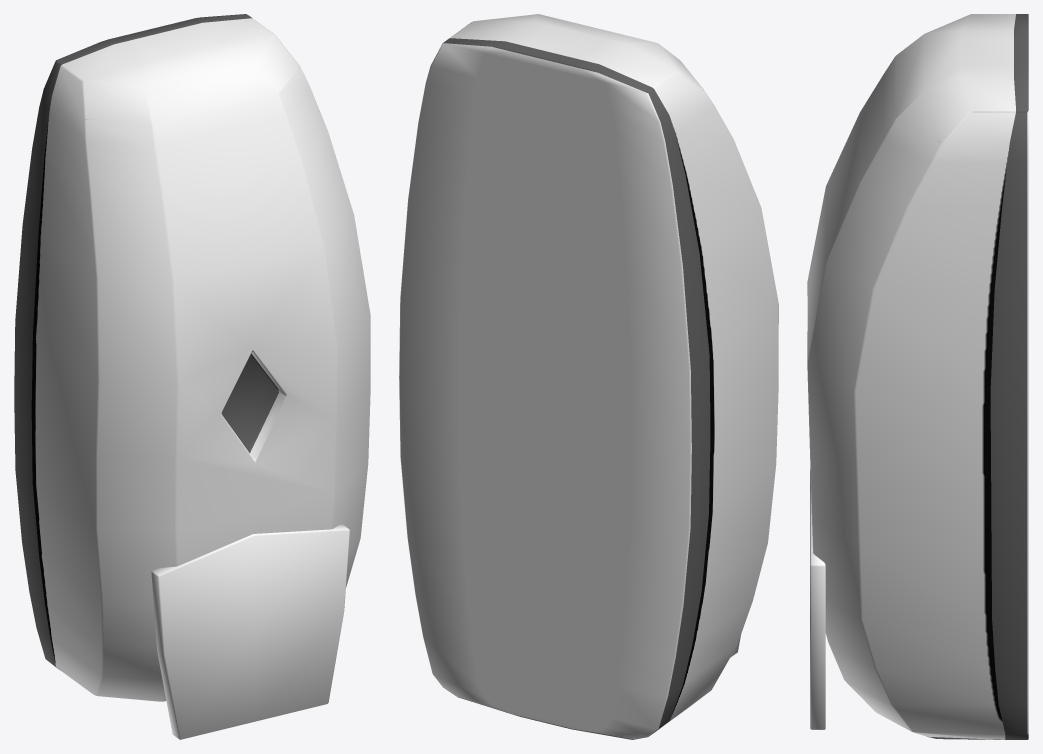
The model's file is SABONETEIRA DE ALCOOL IN GEL.fbx.
3 views of the same model, side by side, from view 1: azimuth 30°, elevation 25°; view 2: azimuth 150°, elevation 25°; view 3: azimuth 270°, elevation 25° (orthographic). The views are drawn at different scales.
Parts seen in each view (by area): view 1: Cube; view 2: Cube; view 3: Cube.
Part boxes in pixels (x1,y1,x2,y2): Cube: (14,14,370,739); Cube: (399,14,778,739); Cube: (807,14,1028,739).
Bounding box in the file's own units: 0.8085 × 1.76 × 0.5432.
2 materials, 2 textured.
